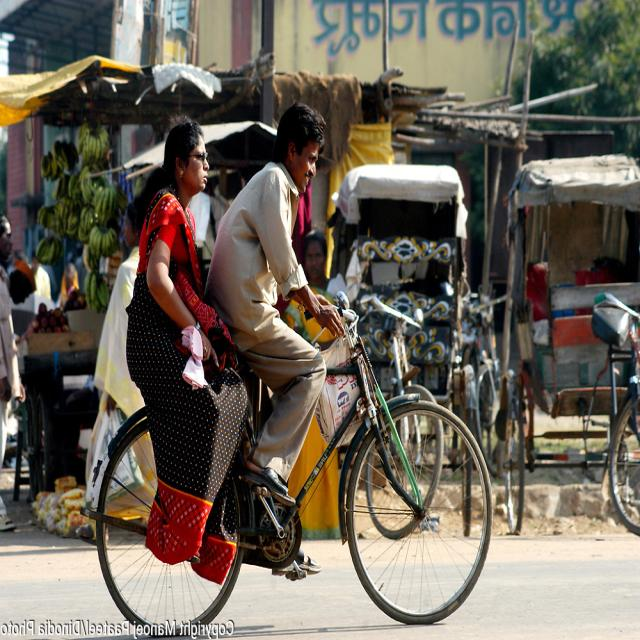bicycle: (89, 103, 491, 633)
